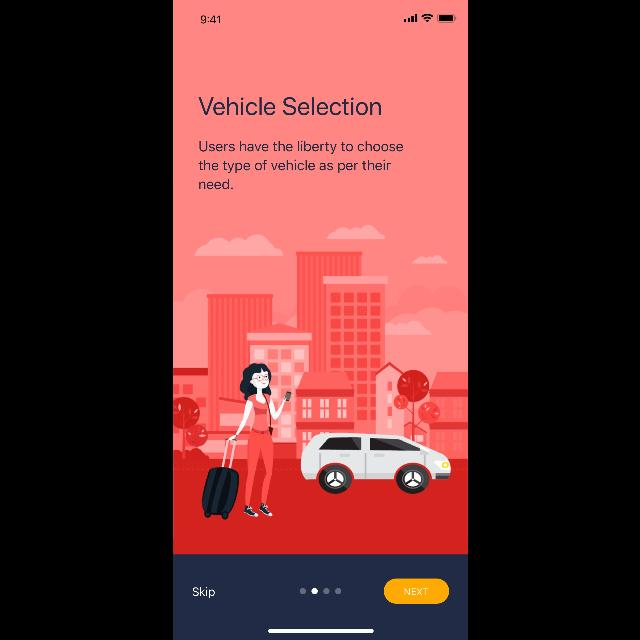image: (172, 225, 468, 521)
pageindicator: (299, 588, 341, 594)
text: (198, 140, 402, 190), (198, 96, 380, 115), (192, 586, 214, 598)
textbutton: (384, 578, 448, 604)
uppertaskbar: (200, 14, 456, 24)
